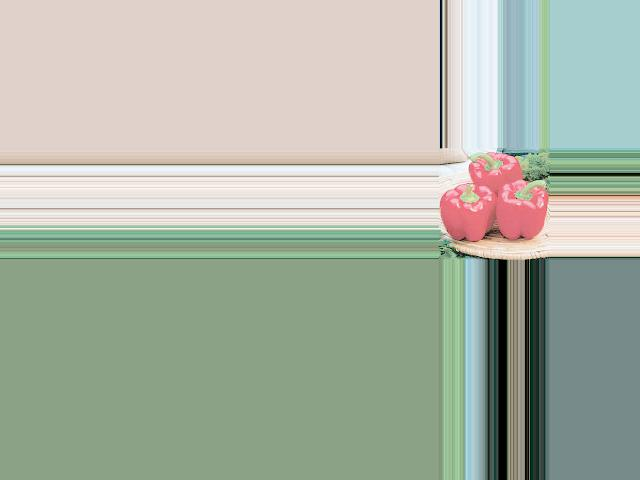bell_pepper: (488, 179, 547, 247)
